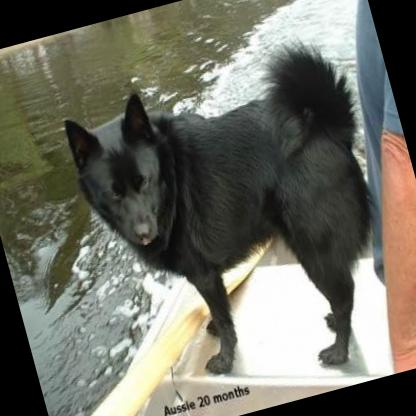schipperke: (53, 29, 416, 416)
